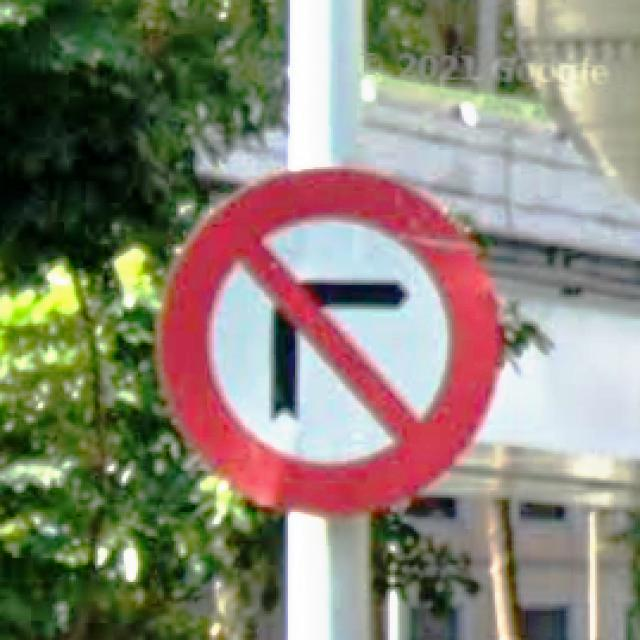noturnright: (152, 162, 507, 517)
